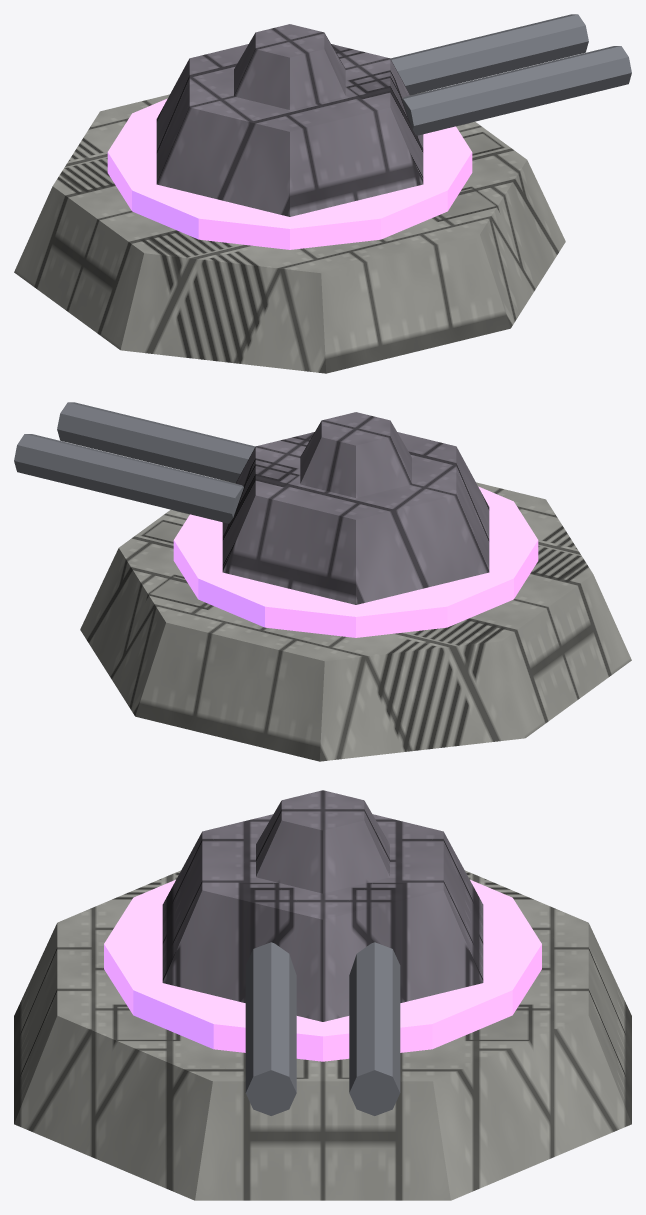
The model's file is turret_iris.glb.
3 renders of one model, top to bottom at view 1: azimuth 30°, elevation 25°; view 2: azimuth 150°, elevation 25°; view 3: azimuth 270°, elevation 25°, orthographic. The views are drawn at different scales.
Size of the model in its own units: 9.28 by 3.6 by 7.76.
Materials: 4 (2 with a texture image).
